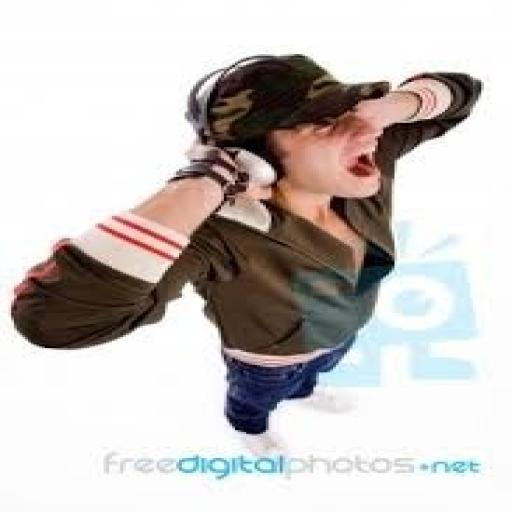listening_to_music: (6, 50, 486, 445)
